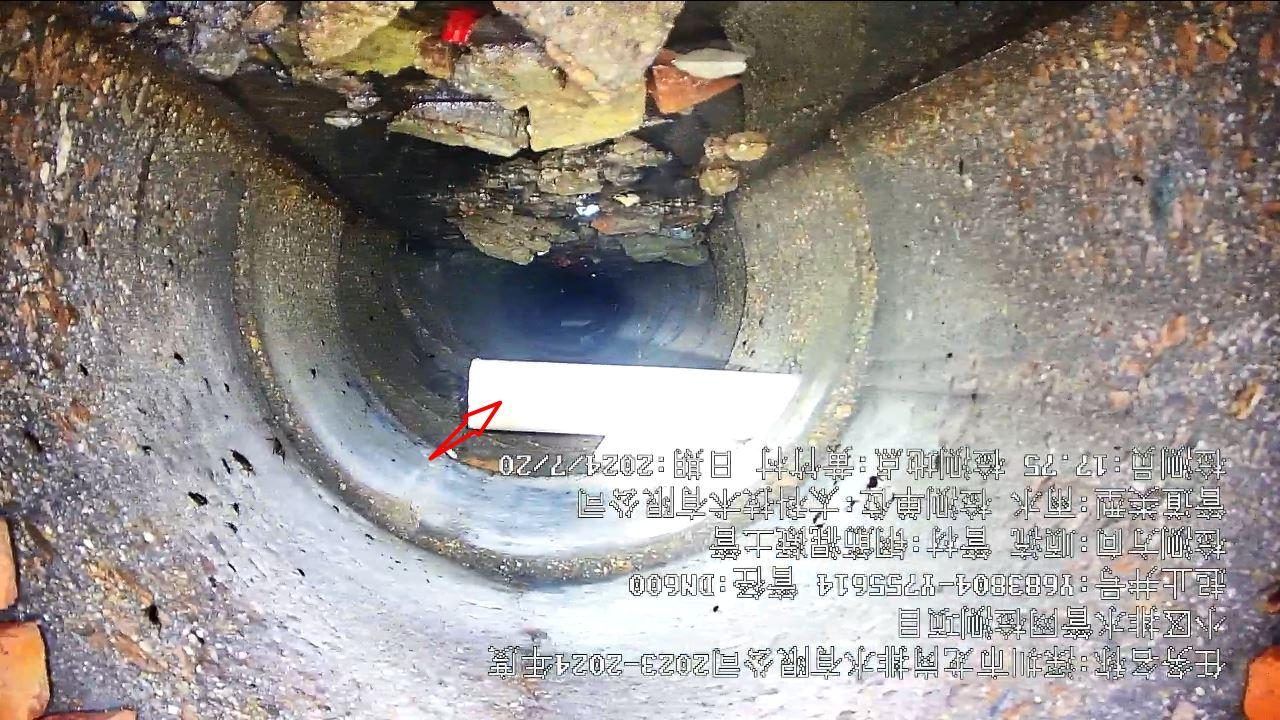CJ: (165, 3, 768, 265)
CKTJ: (248, 187, 879, 593)
ZGAJ: (468, 359, 800, 441)
